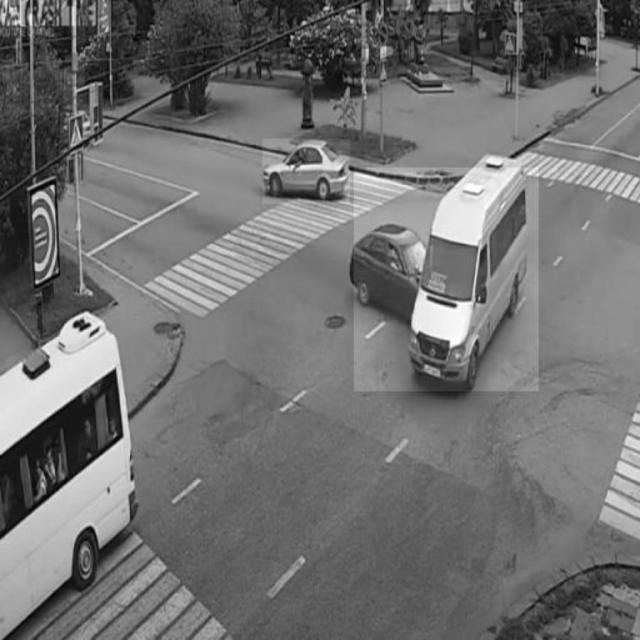accident: (354, 168, 539, 392)
vehicle: (263, 139, 351, 203)
